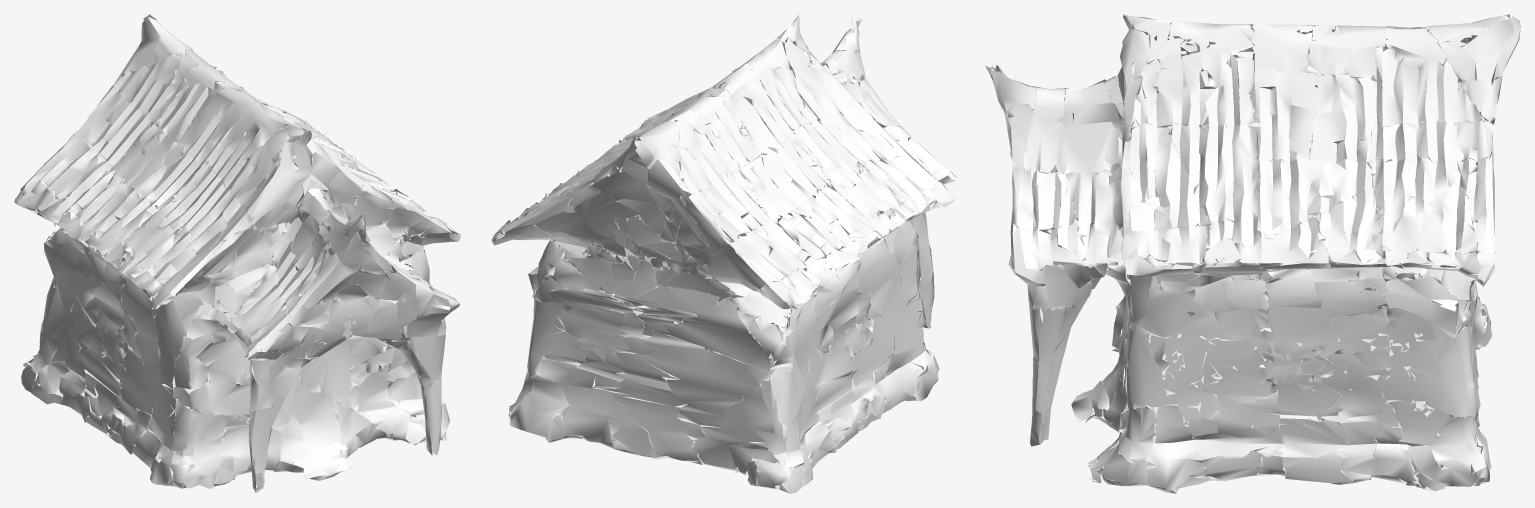
The model's file is house_timber_a_lo.glb.
The picture shows the model from 3 angles, left to right: view 1: azimuth 30°, elevation 25°; view 2: azimuth 150°, elevation 25°; view 3: azimuth 270°, elevation 25°; orthographic projection. The views are drawn at different scales.
Visible parts, largest first — view 1: output_unwrapped; view 2: output_unwrapped; view 3: output_unwrapped.
Part boxes in pixels (bbox=[...]): output_unwrapped: bbox=[14, 14, 461, 493]; output_unwrapped: bbox=[491, 14, 956, 493]; output_unwrapped: bbox=[985, 14, 1520, 493].
Size of the model in its own units: 7.28 by 7.51 by 9.1.
1 material, 1 textured.
